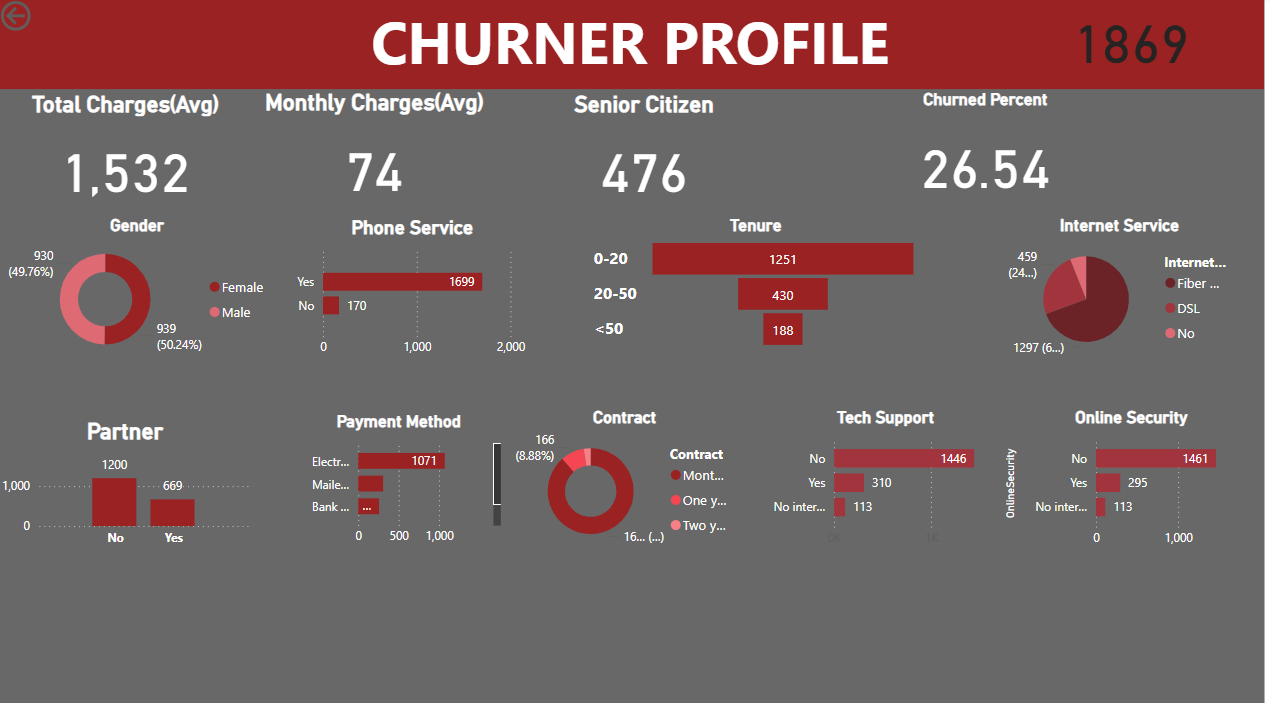

The page's visual inventory and layout, read from the dashboard file:
{"tool":"powerbi","page":{"name":"Churner Profile","canvas":[1280,720],"ordinal":1},"visuals":[{"type":"textbox","box":[0,0,1280.3,93.9],"z":0},{"type":"card","fields":{"Values":["Telco_churn.Churned_count"]},"box":[1068.2,0,156.1,81.8],"z":1000},{"type":"donutChart","title":"Gender","fields":{"Category":["Telco_churn.gender"],"Y":["CountNonNull(Telco_churn.gender)"]},"box":[0,221.1,284.7,149.9],"z":2000},{"type":"funnel","title":" Tenure","fields":{"Category":["Telco_churn.tenure_bin"],"Y":["CountNonNull(Telco_churn.tenure_bin)"]},"box":[598.1,221.1,337.7,139.3],"z":3000},{"type":"card","title":"Senior Citizen","fields":{"Values":["Sum(Telco_churn.SeniorCitizen)"]},"box":[502.7,95.4,302.8,125.7],"z":4000},{"type":"clusteredColumnChart","title":"Partner","fields":{"Category":["Telco_churn.Partner"],"Y":["CountNonNull(Telco_churn.Partner)"]},"box":[0,425.5,260.4,139.3],"z":5000},{"type":"card","title":"Total Charges(Avg)","fields":{"Values":["Avg(Telco_churn.TotalCharges)"]},"box":[0,95.4,260.4,125.7],"z":6000},{"type":"actionButton","box":[0,0,100,40],"z":7000},{"type":"card","title":"Monthly Charges(Avg)","fields":{"Values":["Avg(Telco_churn.MonthlyCharges)"]},"box":[248.3,93.9,266.5,127.2],"z":8000},{"type":"clusteredBarChart","title":"Phone Service","fields":{"Category":["Telco_churn.PhoneService"],"Y":["CountNonNull(Telco_churn.PhoneService)"]},"box":[296.8,222.6,246.8,149.9],"z":9000},{"type":"card","title":"Churned Percent","fields":{"Values":["Telco_churn.percentage_churn"]},"box":[851,93.9,295.3,127.2],"z":10000},{"type":"clusteredBarChart","title":" Online Security ","fields":{"Category":["Telco_churn.OnlineSecurity"],"Y":["CountNonNull(Telco_churn.OnlineSecurity)"]},"box":[1013,414.9,266.5,149.9],"z":11000},{"type":"clusteredBarChart","title":"Tech Support ","fields":{"Category":["Telco_churn.TechSupport"],"Y":["CountNonNull(Telco_churn.TechSupport)"]},"box":[767.7,414.9,260.4,149.9],"z":12000},{"type":"pieChart","title":"Internet Service ","fields":{"Category":["Telco_churn.InternetService"],"Y":["CountNonNull(Telco_churn.InternetService)"]},"box":[1016,221.1,236.2,149.9],"z":13000},{"type":"donutChart","title":" Contract","fields":{"Category":["Telco_churn.Contract"],"Y":["CountNonNull(Telco_churn.Contract)"]},"box":[514.8,414.9,239.2,149.9],"z":14000},{"type":"clusteredBarChart","title":" Payment Method","fields":{"Category":["Telco_churn.PaymentMethod"],"Y":["CountNonNull(Telco_churn.PaymentMethod)"]},"box":[298.3,419.4,216.5,143.8],"z":15000}]}

Visuals, with their boxes in screenshot pixels (x1, y1, x2, y2), scaled from the page's 1280x720 canvas onto the 1270x703 screenshot:
textbox: rect(0, 0, 1269, 92)
card - Telco_churn.Churned_count: rect(1060, 0, 1215, 80)
"Gender" donutChart: rect(0, 216, 282, 362)
" Tenure" funnel: rect(593, 216, 928, 352)
"Senior Citizen" card: rect(499, 93, 799, 216)
"Partner" clusteredColumnChart: rect(0, 415, 258, 551)
"Total Charges(Avg)" card: rect(0, 93, 258, 216)
actionButton: rect(0, 0, 99, 39)
"Monthly Charges(Avg)" card: rect(246, 92, 511, 216)
"Phone Service" clusteredBarChart: rect(294, 217, 539, 364)
"Churned Percent" card: rect(844, 92, 1137, 216)
" Online Security " clusteredBarChart: rect(1005, 405, 1269, 551)
"Tech Support " clusteredBarChart: rect(762, 405, 1020, 551)
"Internet Service " pieChart: rect(1008, 216, 1242, 362)
" Contract" donutChart: rect(511, 405, 748, 551)
" Payment Method" clusteredBarChart: rect(296, 409, 511, 550)
